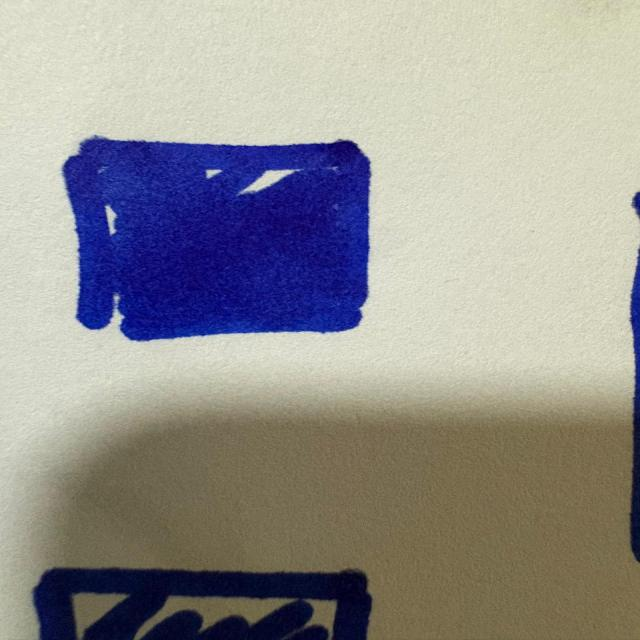Square: (63, 131, 391, 350)
